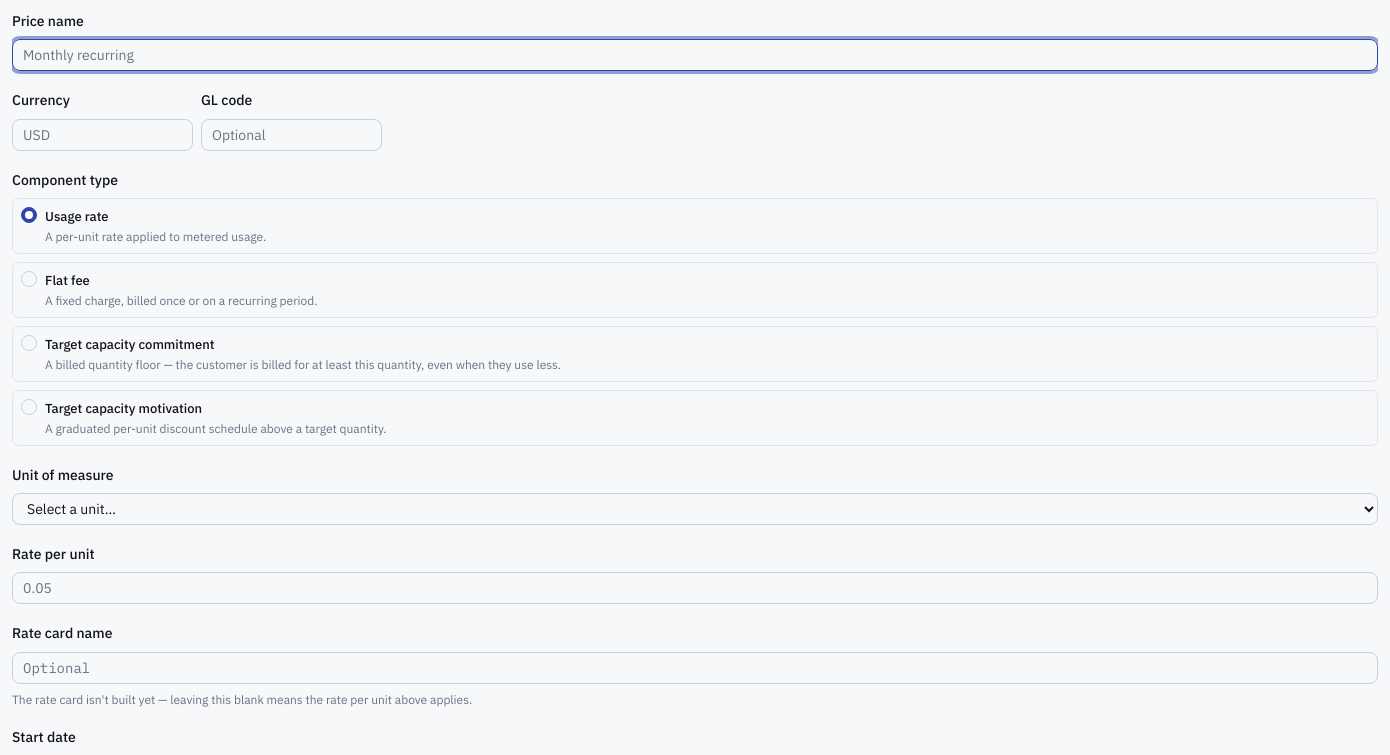
Test: PriceForm — component picker (D1) › capacity_commitment shows the unit and a committed quantity field with no currency inside the branch
Step 1. Click the radio button named "Target capacity commitment" next to "Target capacity commitment" → click(29, 343), box [21,335,37,351]
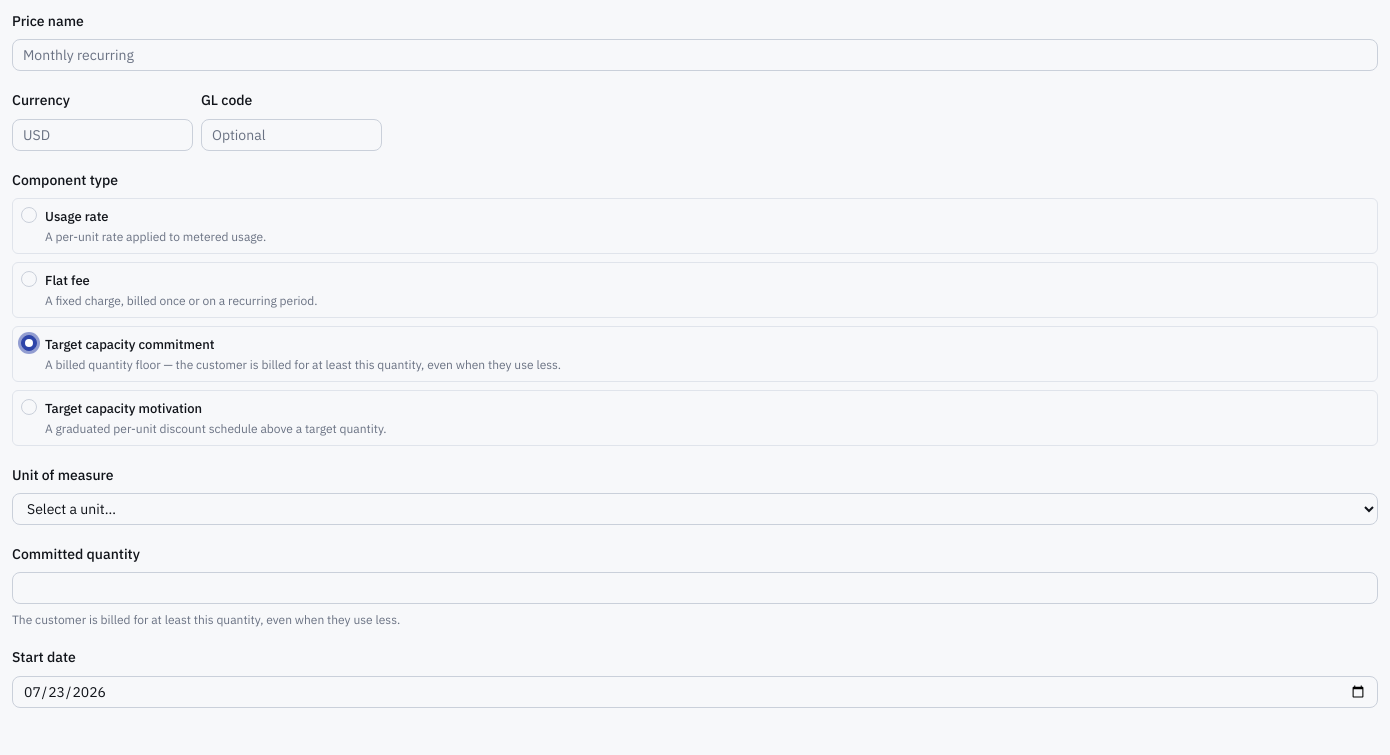
Check: the dropdown labelled "Unit of measure" is shown, box [12,493,1378,525]
Check: the field labelled "Committed quantity" is shown, box [12,572,1378,604]
